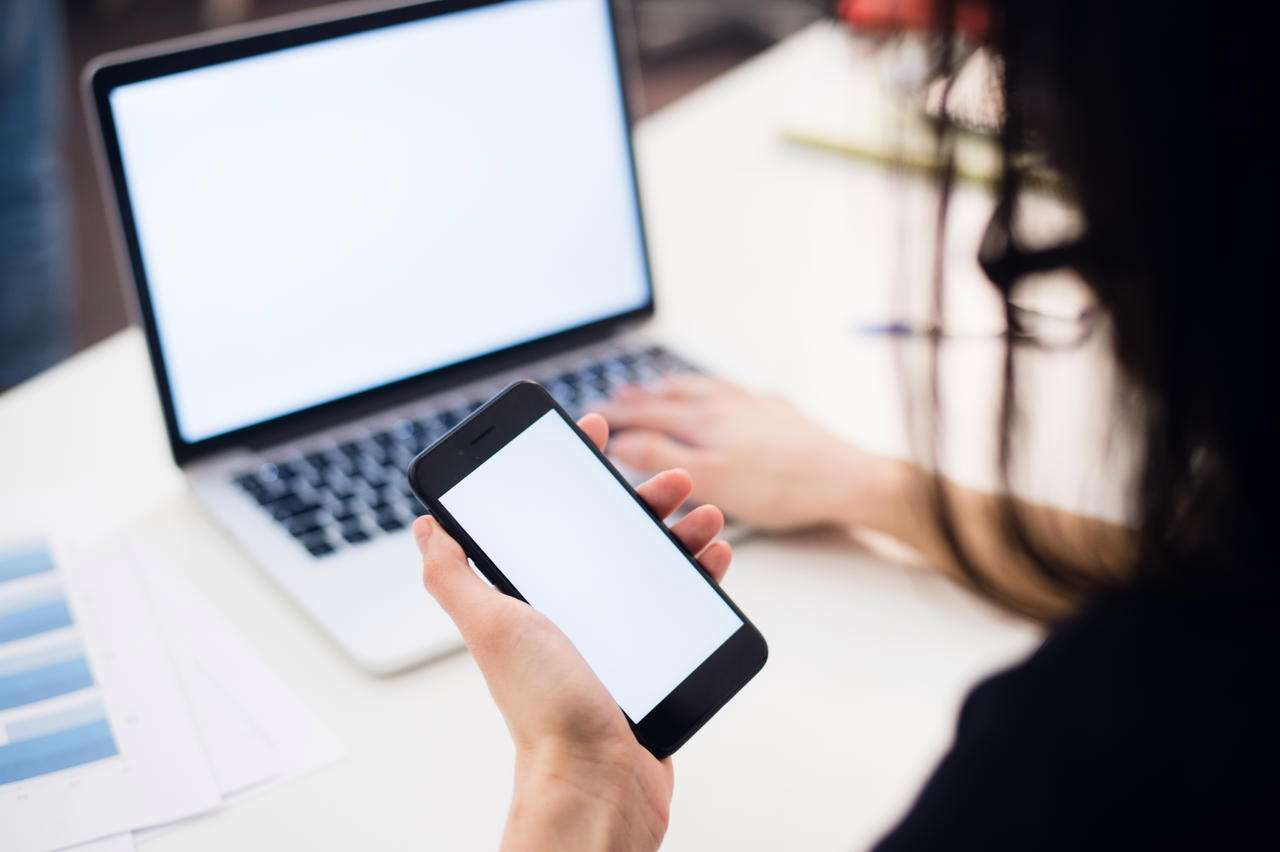reading: (404, 373, 774, 845)
